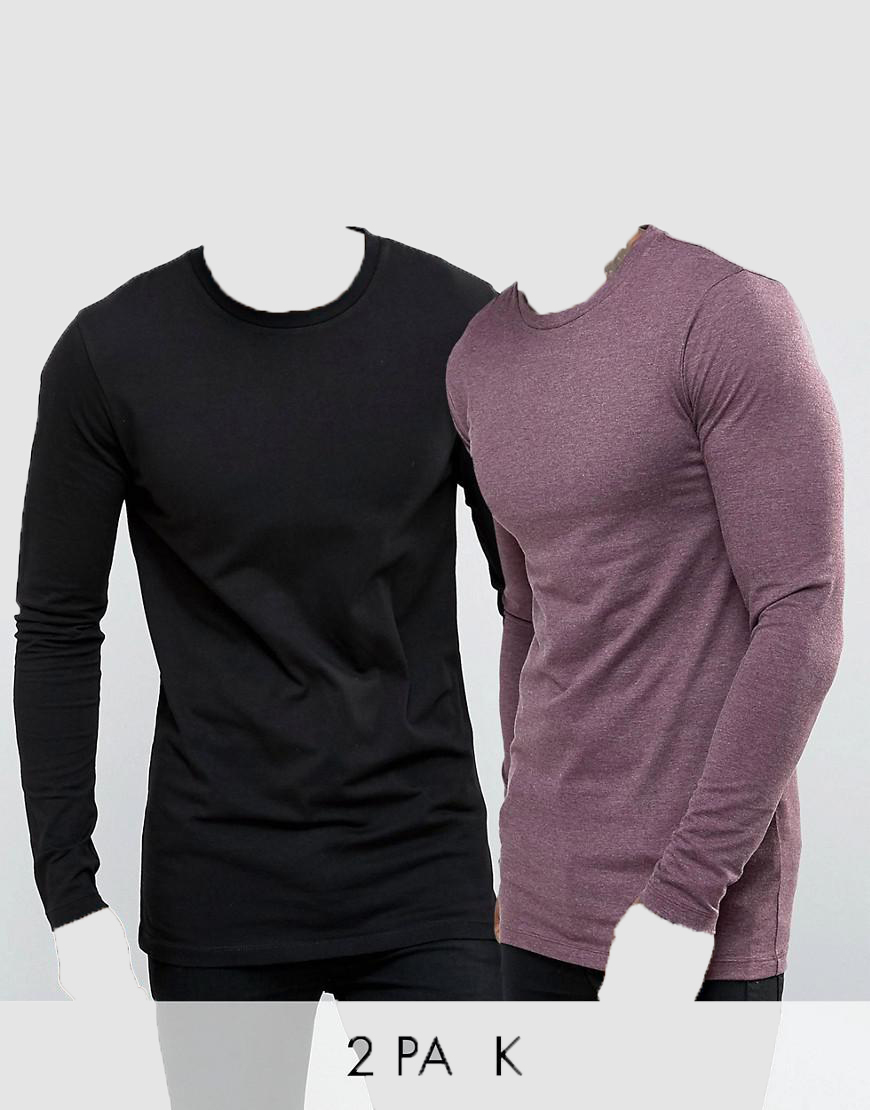teeshirt: (446, 225, 854, 1003), (8, 229, 439, 957)
